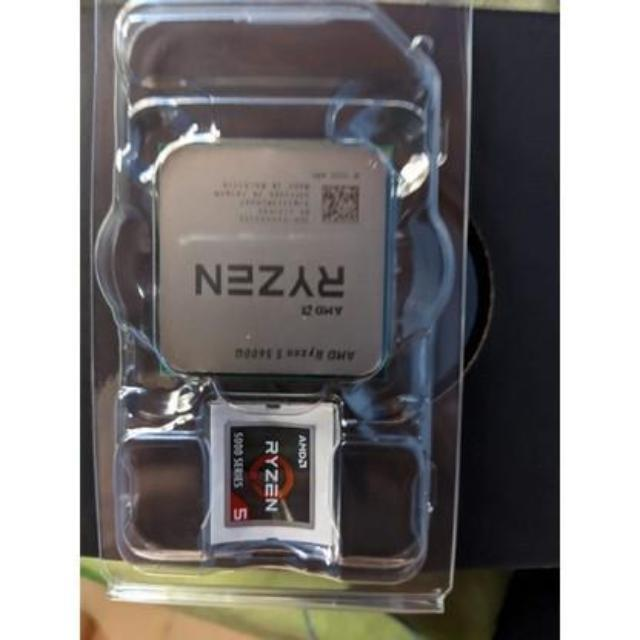CPU: (150, 136, 387, 382)
